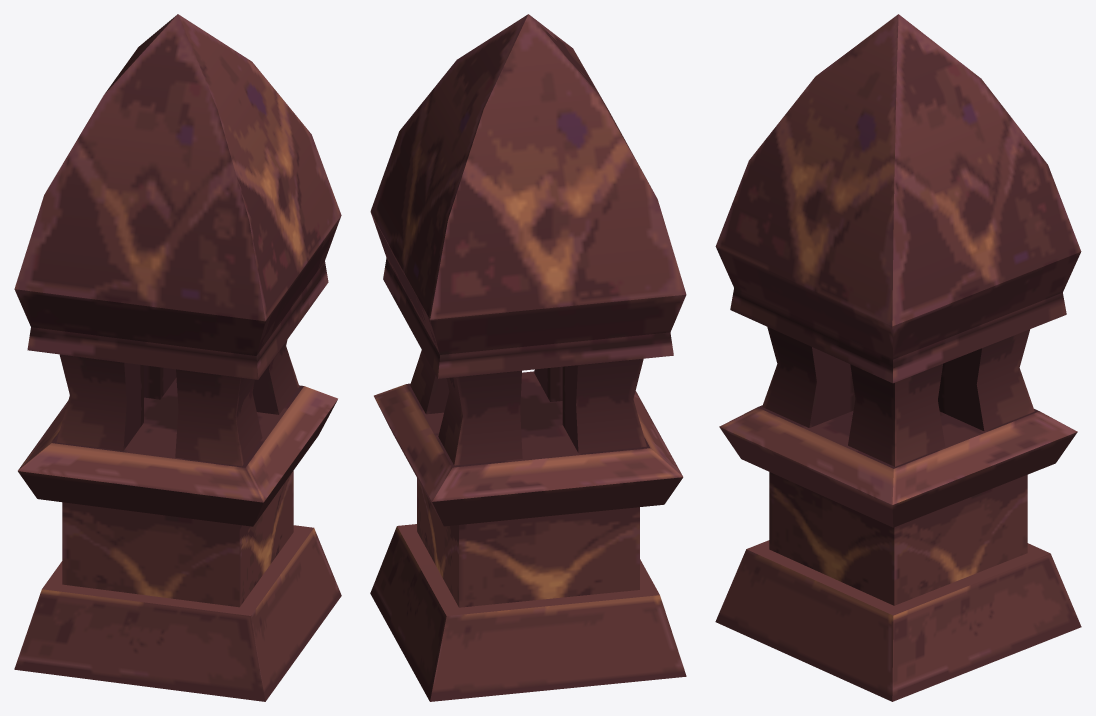
Rendered from desert_cave_stone_lamp_01_d6536cd1.glb.
3 renders of one model, left to right at view 1: azimuth 30°, elevation 25°; view 2: azimuth 150°, elevation 25°; view 3: azimuth 270°, elevation 25°, orthographic.
Size of the model in its own units: 1.21 by 2.22 by 1.21.
1 material, 1 textured.
